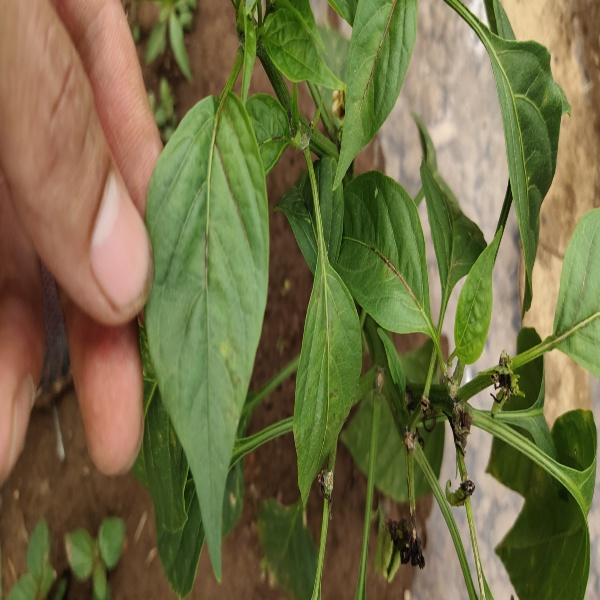blight: (385, 512, 427, 571), (403, 395, 441, 451), (492, 351, 524, 407), (445, 401, 476, 454), (444, 478, 475, 506)
